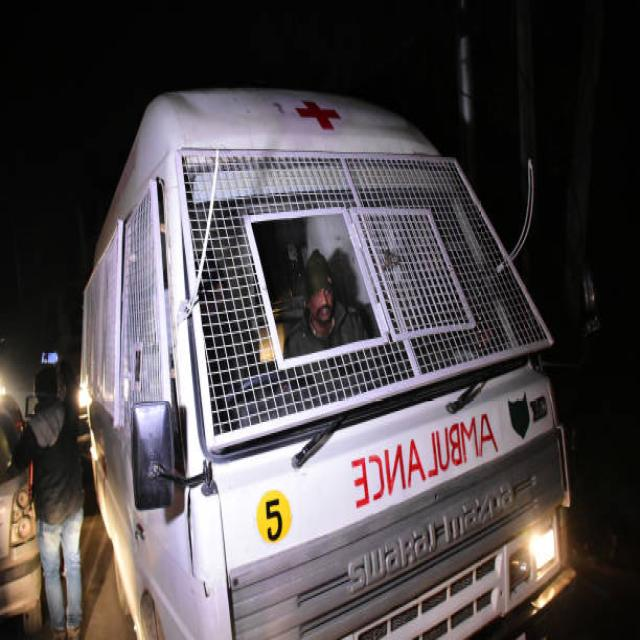ambulance: (339, 404, 501, 516), (288, 92, 342, 144)
